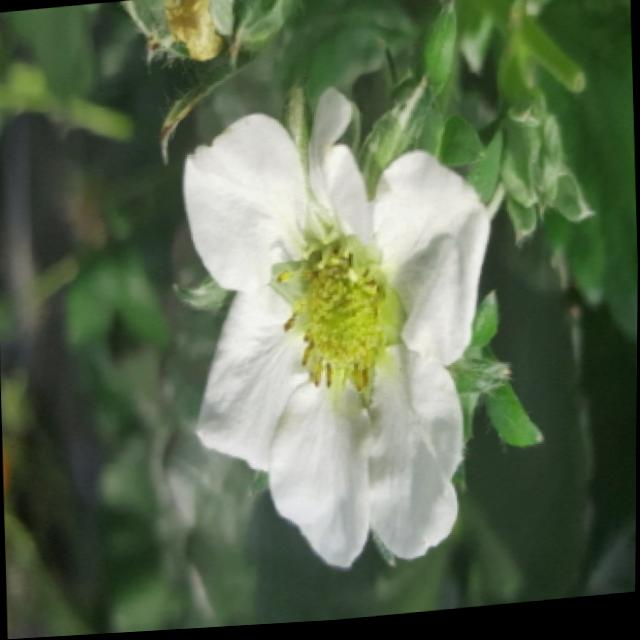Blossom Blight: (265, 216, 414, 404)
